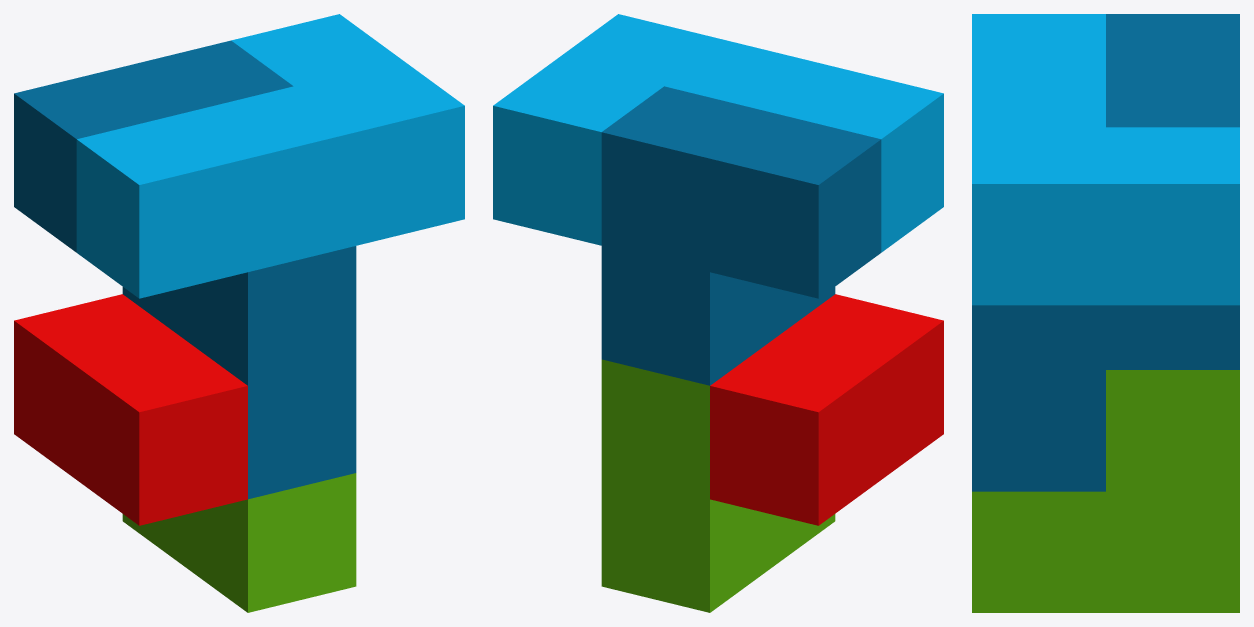
3 renders of one model, left to right at view 1: azimuth 30°, elevation 25°; view 2: azimuth 150°, elevation 25°; view 3: azimuth 270°, elevation 25°, orthographic. The views are drawn at different scales.
Visible parts, largest first — view 1: mergedBlocks(Clone); view 2: mergedBlocks(Clone); view 3: mergedBlocks(Clone).
Boxes of the visible parts, x1,y1,x2,y2 form: mergedBlocks(Clone): (14,14,464,612); mergedBlocks(Clone): (493,14,943,612); mergedBlocks(Clone): (972,14,1239,612).
Size of the model in its own units: 3 by 4 by 2.
Materials: 4 (4 with a texture image).
